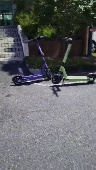beam: (11, 35, 57, 85)
gcooter: (51, 33, 96, 84)
